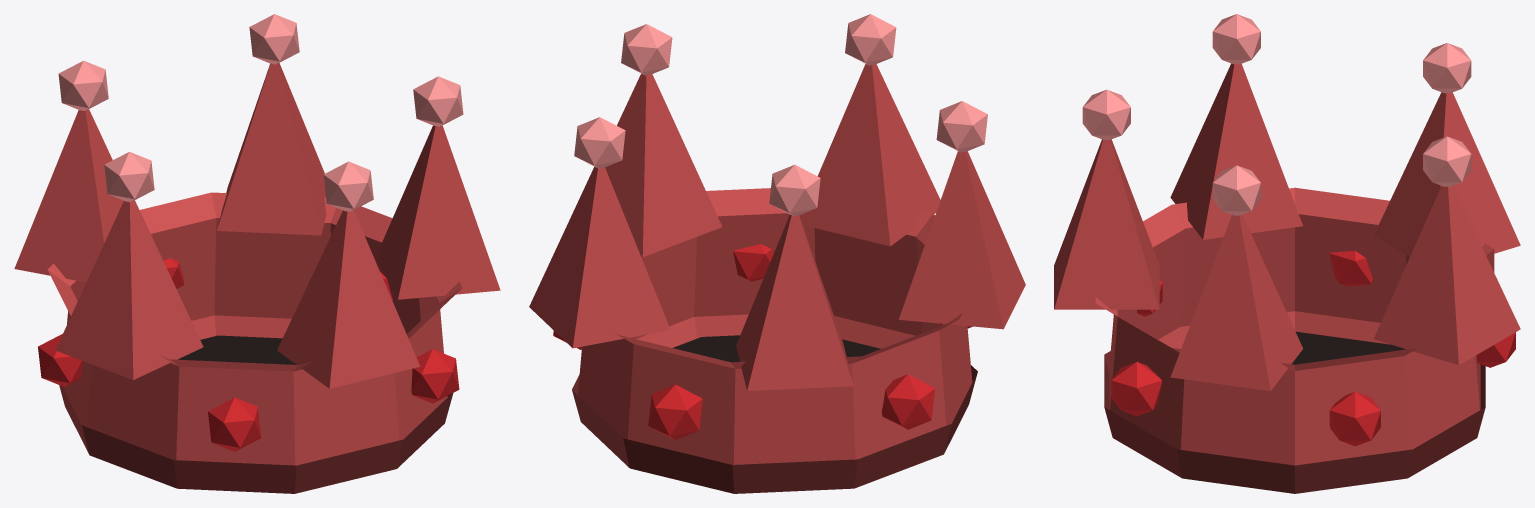
The model's file is crown.glb.
The picture shows the model from 3 angles, left to right: view 1: azimuth 30°, elevation 25°; view 2: azimuth 150°, elevation 25°; view 3: azimuth 270°, elevation 25°; orthographic projection. The views are drawn at different scales.
Visible parts, largest first — view 1: crown; view 2: crown; view 3: crown.
Part boxes in pixels (left/top/right/bottom): crown: left=14, top=14, right=500, bottom=493; crown: left=529, top=14, right=1025, bottom=493; crown: left=1054, top=14, right=1520, bottom=493.
Bounding box in the file's own units: 0.2765 × 0.201 × 0.2629.
